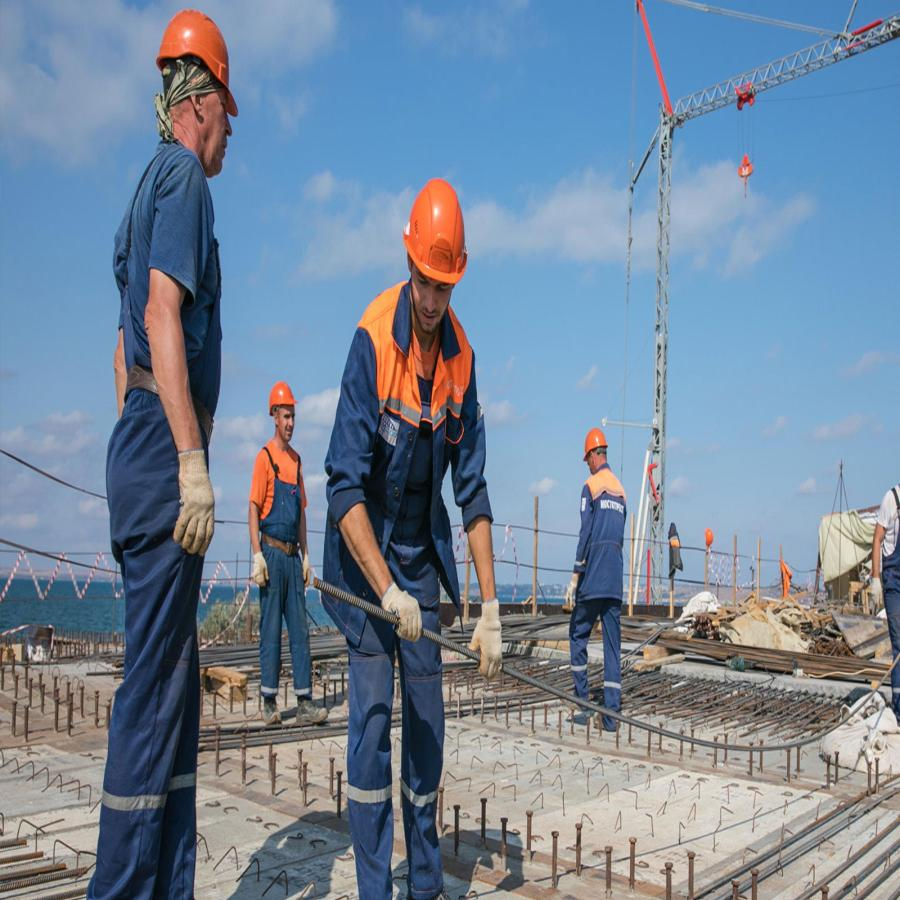Helmet: (156, 10, 239, 180), (404, 181, 471, 335), (270, 379, 299, 445), (588, 431, 609, 475)
